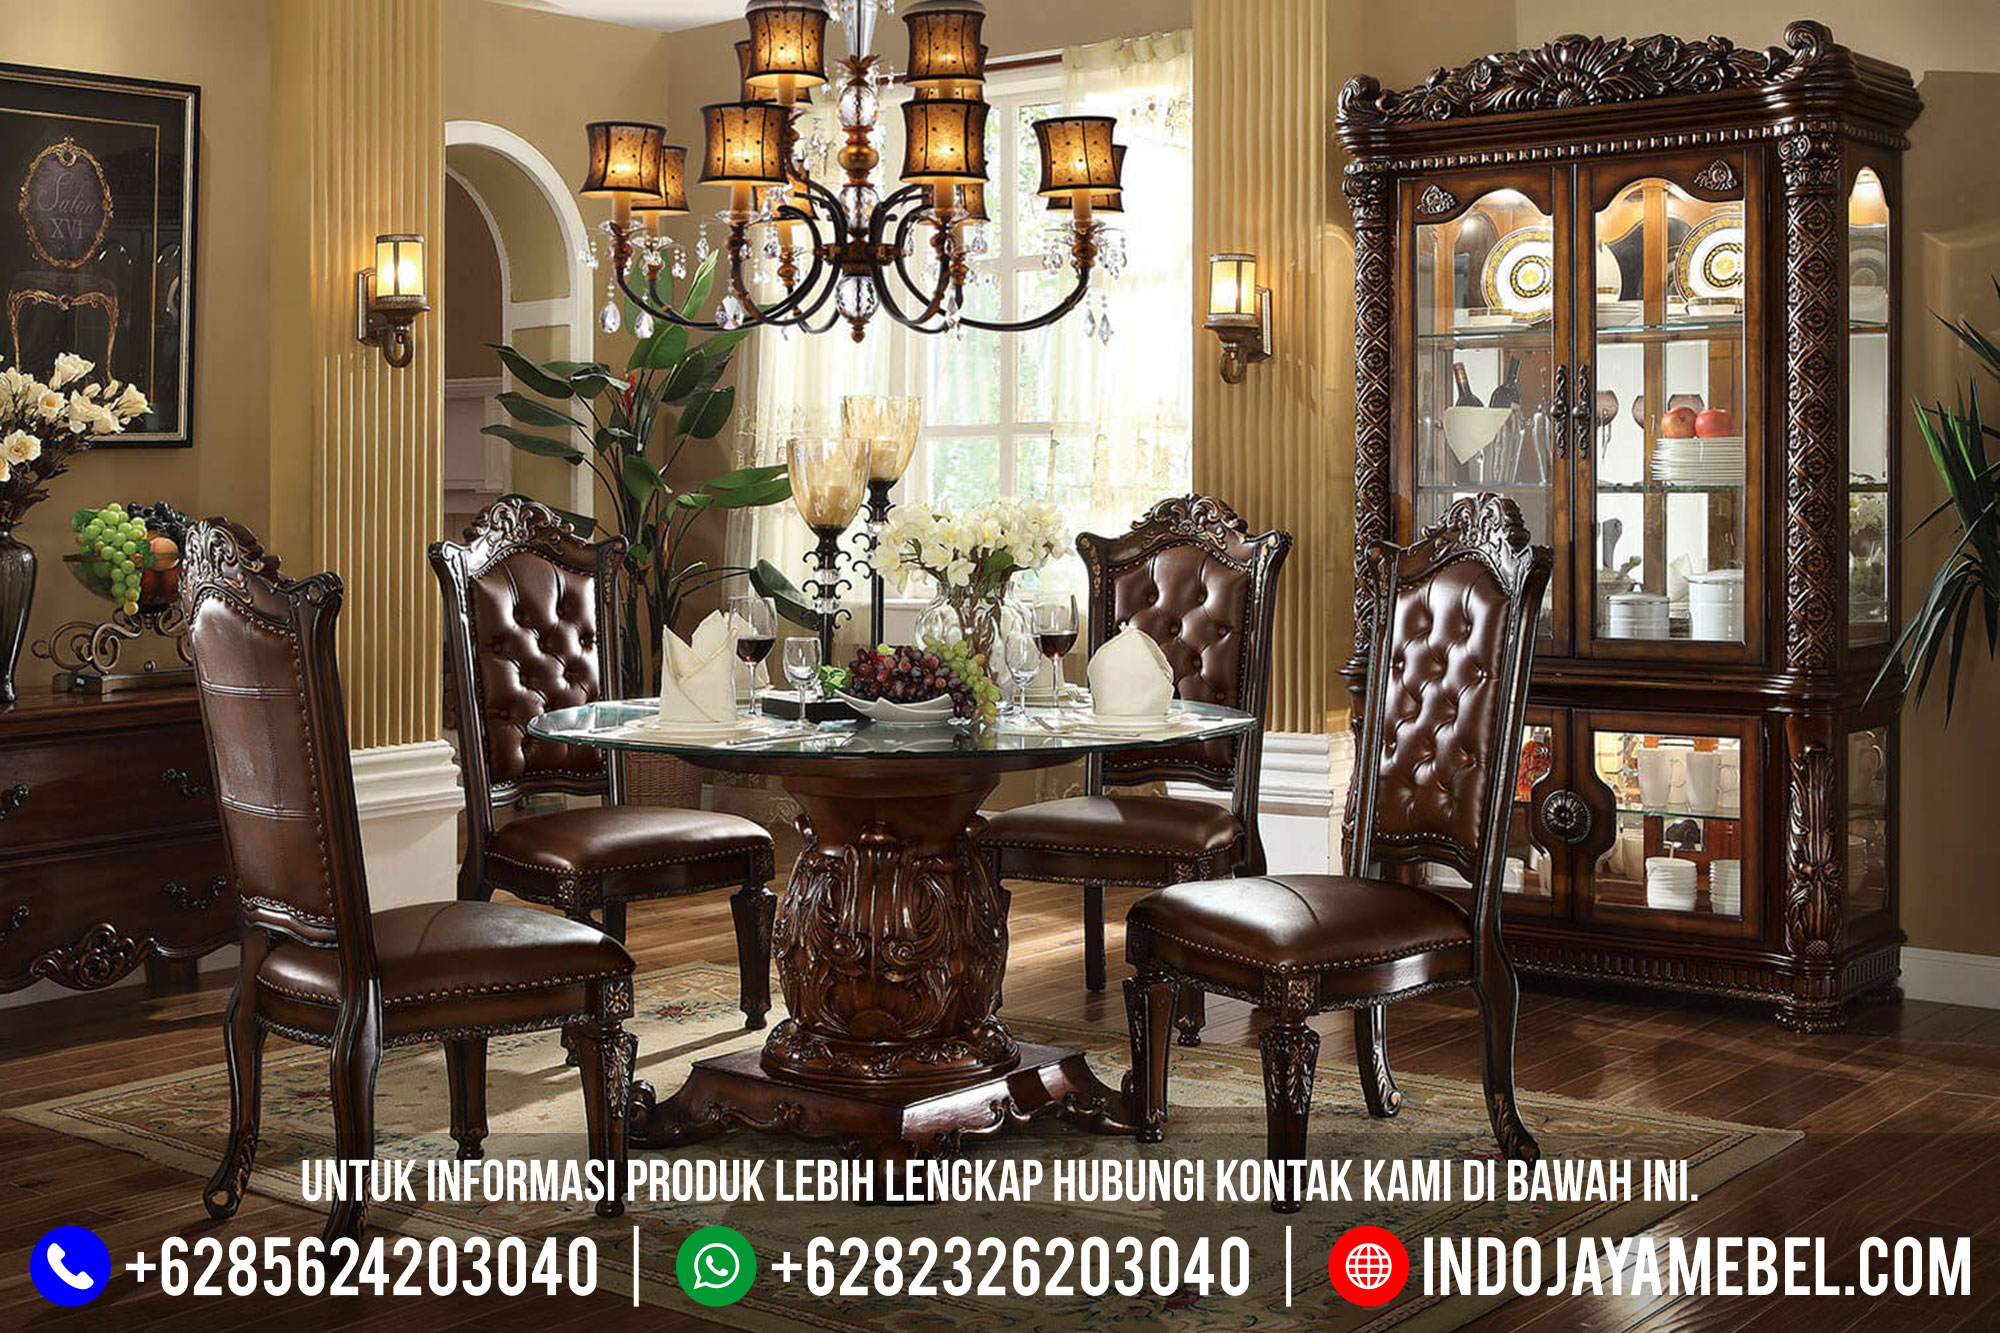Carving Chair: (165, 556, 668, 1205), (1175, 542, 1564, 1210)
Carving Table: (558, 669, 1271, 1174)
